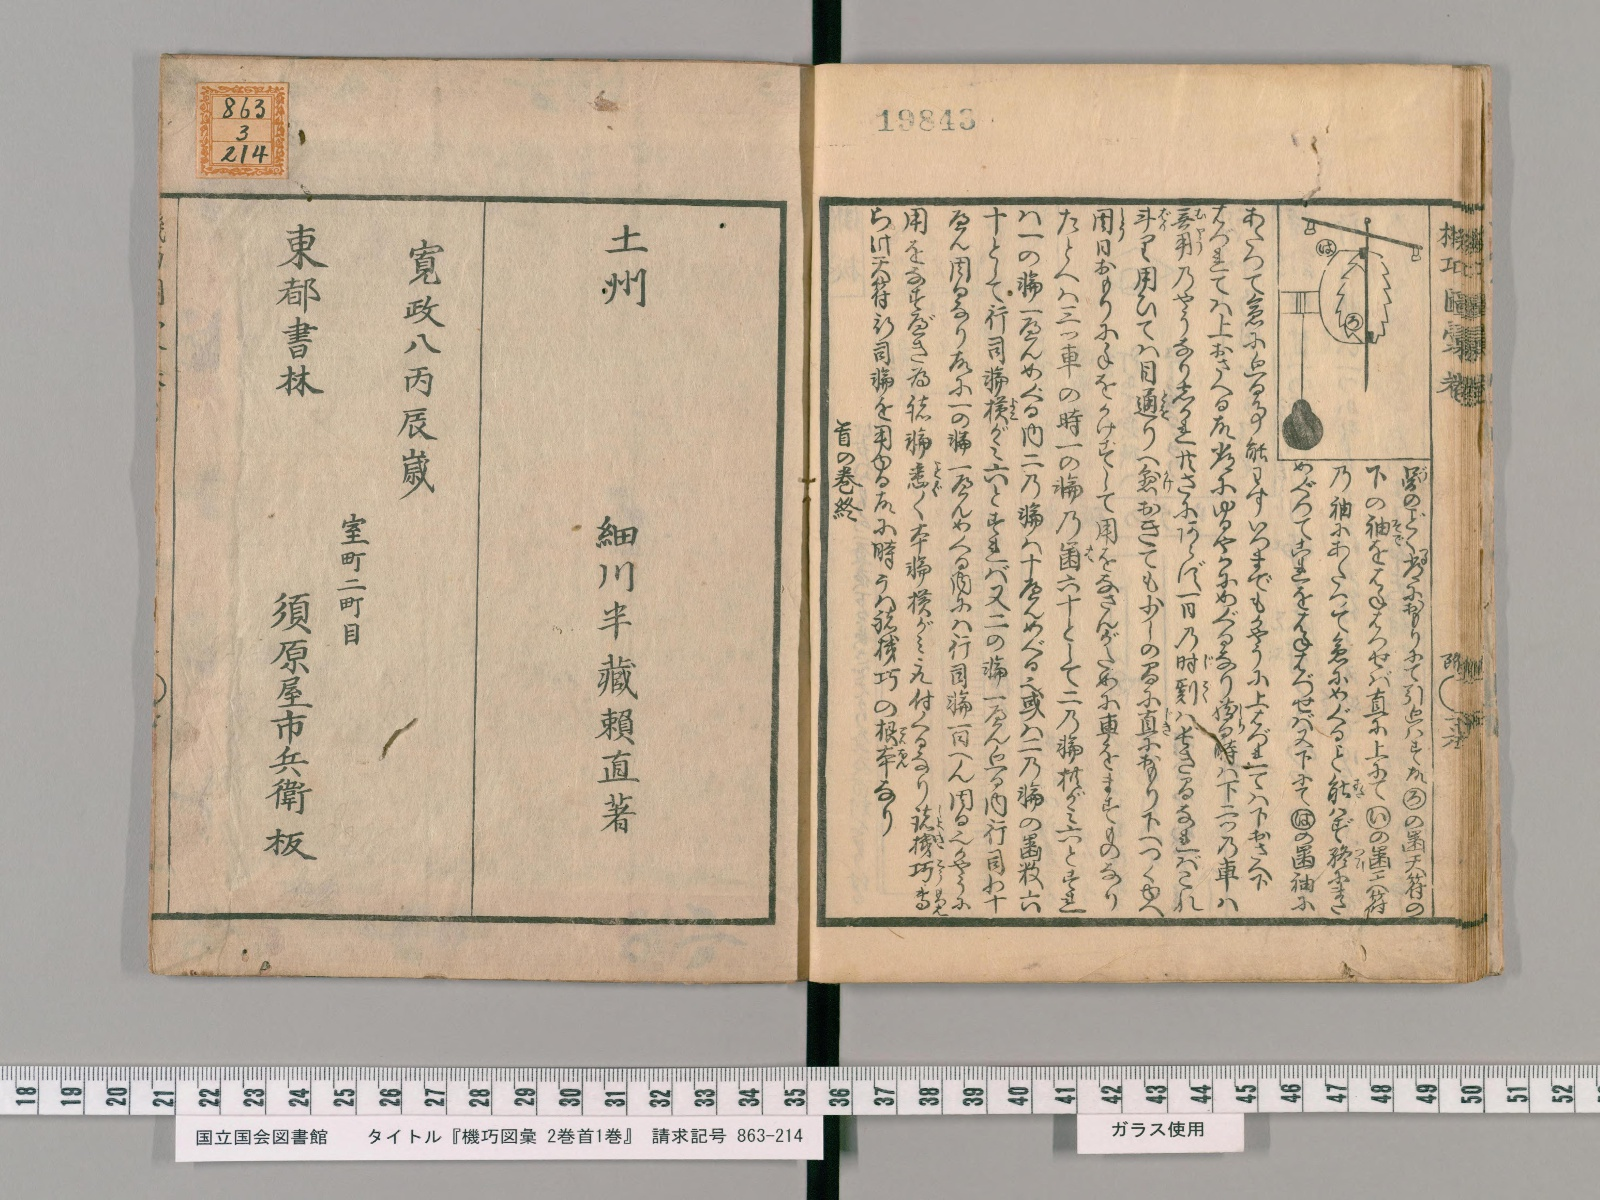1_overall: (150, 55, 1506, 989)
2_handwritten: (1051, 203, 1086, 916), (1208, 205, 1243, 913), (1015, 211, 1048, 914), (1134, 205, 1164, 911), (946, 207, 976, 913), (903, 205, 934, 911), (981, 207, 1010, 914), (1094, 207, 1123, 913), (1173, 205, 1201, 916), (869, 207, 900, 839), (1243, 205, 1270, 892), (1325, 465, 1354, 919), (1289, 463, 1318, 916), (1401, 465, 1430, 916), (1364, 465, 1392, 916), (831, 418, 866, 524)
3_typography: (596, 516, 643, 841), (267, 585, 317, 868), (399, 239, 447, 503), (276, 223, 328, 408), (597, 223, 653, 314), (336, 512, 370, 650)
4_illustration: (1281, 213, 1426, 450)
5_stamp: (197, 81, 289, 183)
